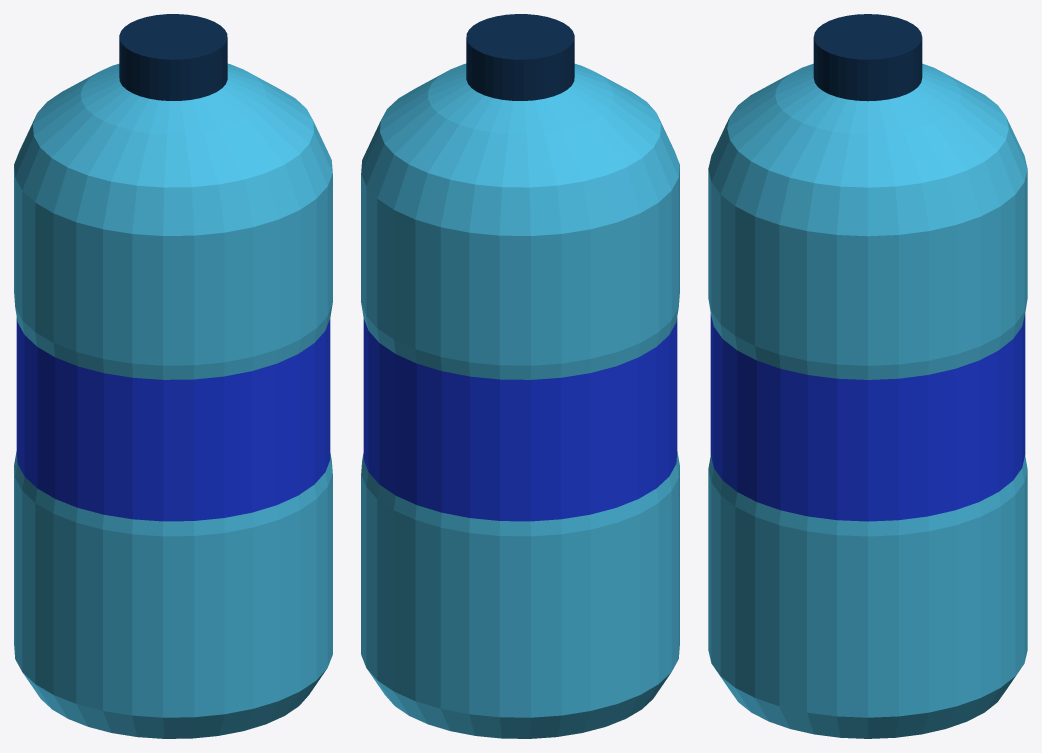
File: botellaAgua.fbx
3 views of the same model, side by side, from view 1: azimuth 30°, elevation 25°; view 2: azimuth 150°, elevation 25°; view 3: azimuth 270°, elevation 25° (orthographic).
Parts seen in each view (by area): view 1: Cylinder; view 2: Cylinder; view 3: Cylinder.
Boxes of the visible parts, x1,y1,x2,y2 form: Cylinder: (14, 14, 332, 738); Cylinder: (361, 14, 679, 738); Cylinder: (708, 14, 1027, 738).
Bounding box in the file's own units: 200 × 444 × 200.
